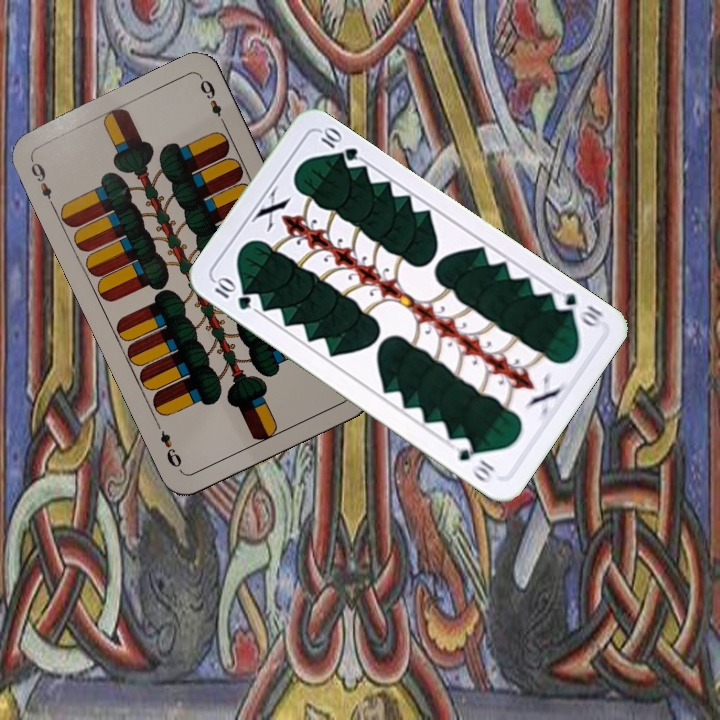E9: (26, 155, 58, 211)
G10: (548, 286, 606, 332), (210, 274, 254, 313)
